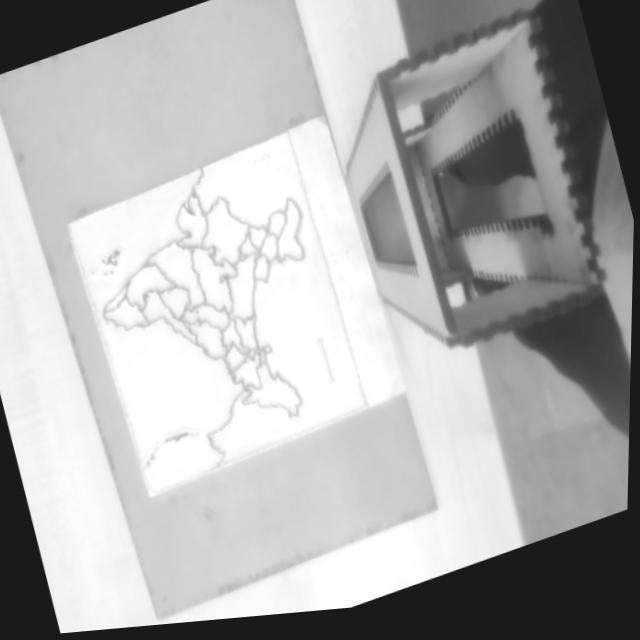map: (59, 131, 375, 497)
